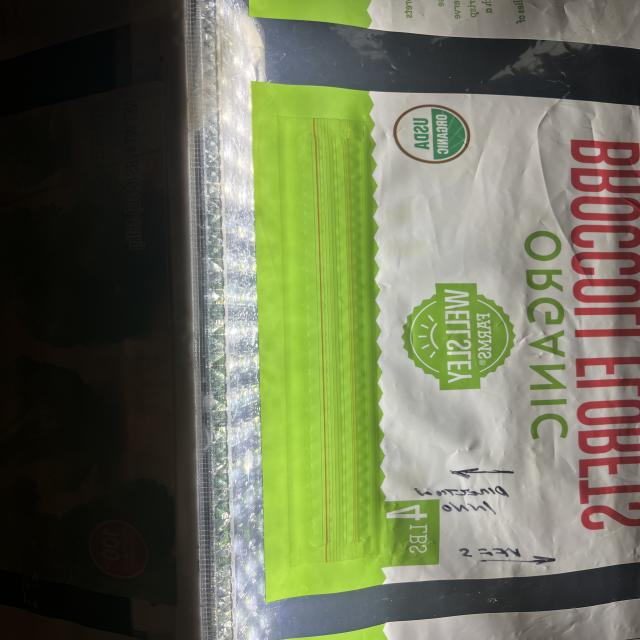zip_l: (276, 115, 388, 568)
